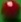brown: (0, 0, 21, 22)
